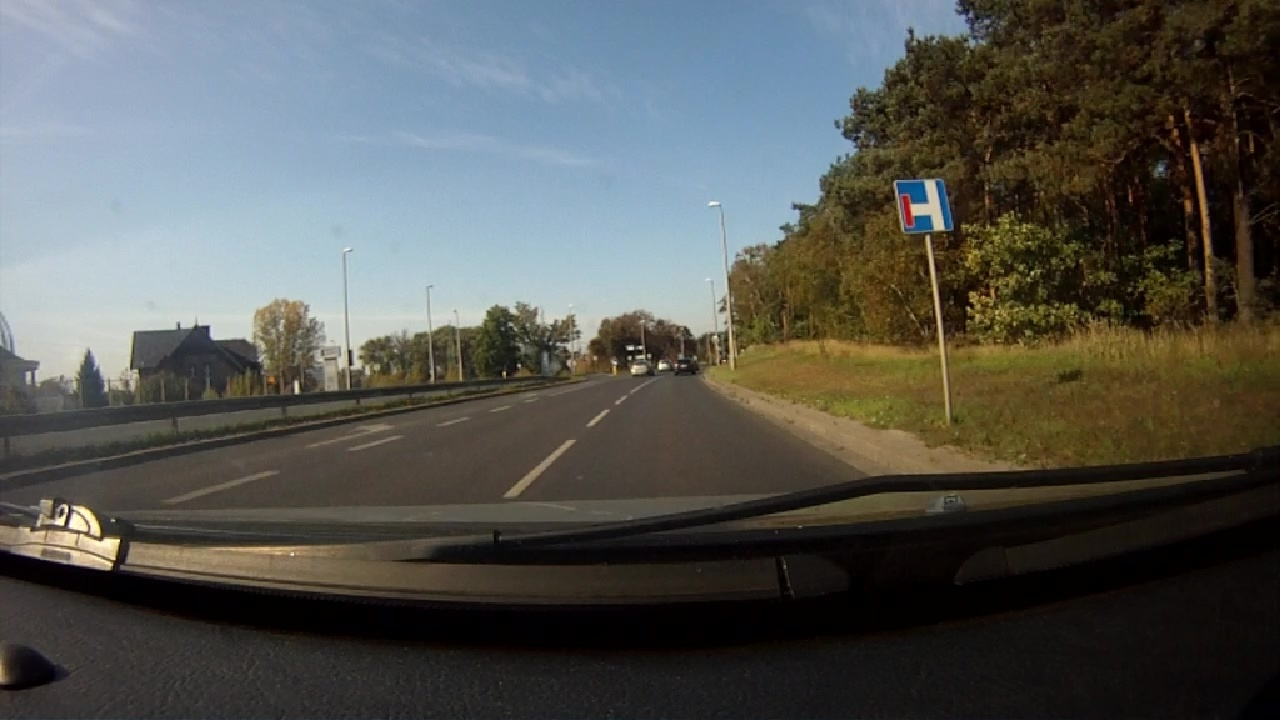D4a: (894, 178, 953, 233)
